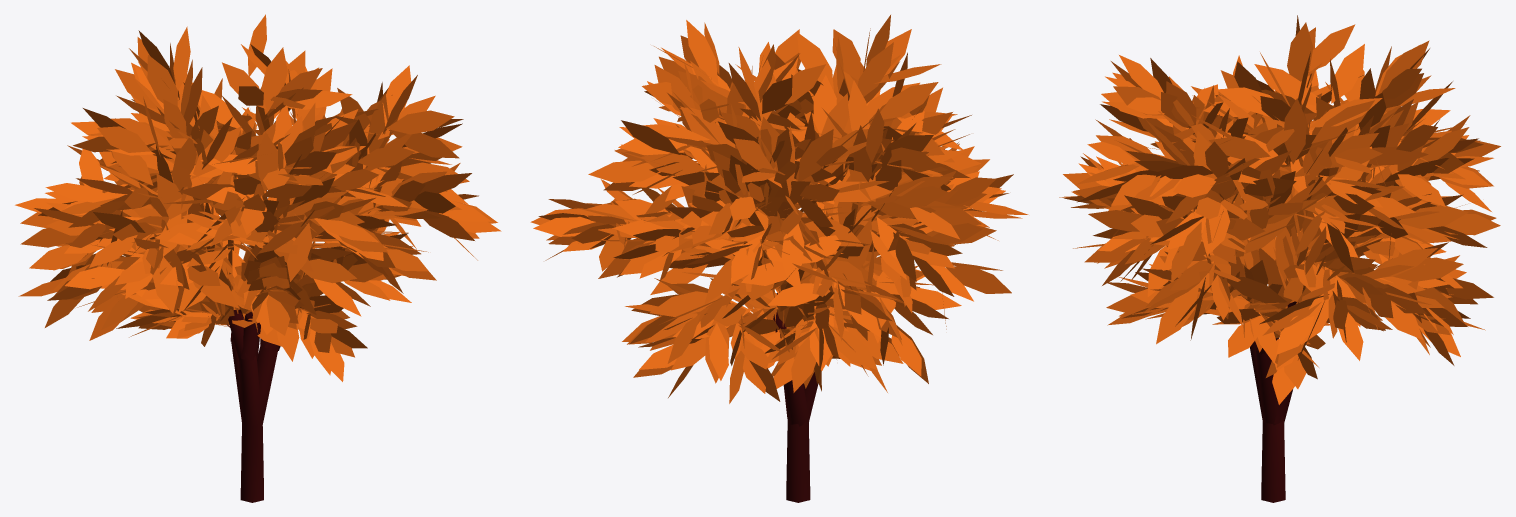
File: LOD1_arvore fall.fbx
The picture shows the model from 3 angles, left to right: view 1: azimuth 30°, elevation 25°; view 2: azimuth 150°, elevation 25°; view 3: azimuth 270°, elevation 25°; orthographic projection. The views are drawn at different scales.
Parts seen in each view (by area): view 1: LOD1_arvore fall; view 2: LOD1_arvore fall; view 3: LOD1_arvore fall.
Part boxes in pixels (x1,y1,x2,y2): LOD1_arvore fall: (15, 14, 501, 502); LOD1_arvore fall: (530, 15, 1028, 502); LOD1_arvore fall: (1059, 15, 1500, 502).
Size of the model in its own units: 1976 by 1925 by 1757.
